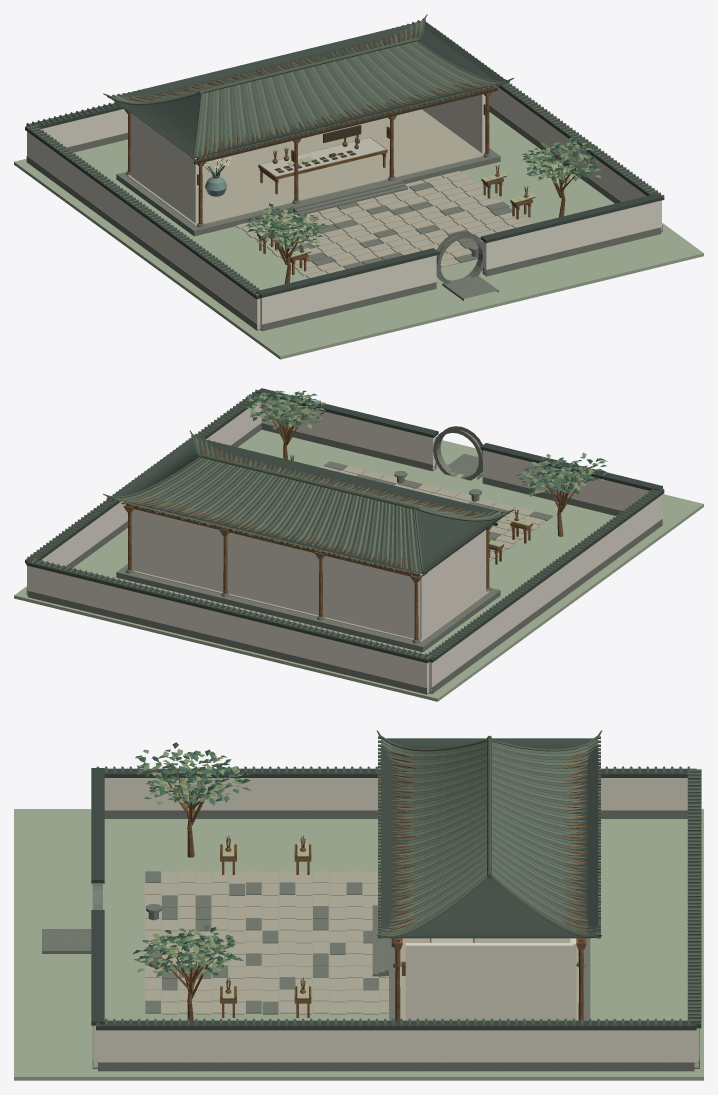
File: public_models_places_qiushuangzhai.glb
The picture shows the model from 3 angles, top to bottom: view 1: azimuth 30°, elevation 25°; view 2: azimuth 150°, elevation 25°; view 3: azimuth 270°, elevation 25°; orthographic projection. The views are drawn at different scales.
Parts seen in each view (by area): view 1: qiushuangzhai_earth, qiushuangzhai_plaster, qiushuangzhai_paving, qiushuangzhai_roof, qiushuangzhai_stone, qiushuangzhai_tile, qiushuangzhai_tiledark, qiushuangzhai_wood, qiushuangzhai_tilelight, qiushuangzhai_darkwood, qiushuangzhai_lightleaf, qiushuangzhai_leaf (+2 smaller); view 2: qiushuangzhai_plaster, qiushuangzhai_roof, qiushuangzhai_earth, qiushuangzhai_stone, qiushuangzhai_tile, qiushuangzhai_tiledark, qiushuangzhai_tilelight, qiushuangzhai_wood, qiushuangzhai_paving, qiushuangzhai_leaf, qiushuangzhai_lightleaf, qiushuangzhai_leafdark; view 3: qiushuangzhai_earth, qiushuangzhai_plaster, qiushuangzhai_roof, qiushuangzhai_paving, qiushuangzhai_stone, qiushuangzhai_tile, qiushuangzhai_tiledark, qiushuangzhai_tilelight, qiushuangzhai_wood, qiushuangzhai_leaf, qiushuangzhai_lightleaf, qiushuangzhai_leafdark (+1 smaller).
Part boxes in pixels (x1,y1,x2,y2): qiushuangzhai_earth: (14,112,703,359); qiushuangzhai_plaster: (27,85,661,329); qiushuangzhai_paving: (127,109,532,278); qiushuangzhai_roof: (25,21,664,299); qiushuangzhai_stone: (26,104,662,331); qiushuangzhai_tile: (26,20,664,296); qiushuangzhai_tiledark: (103,14,513,159); qiushuangzhai_wood: (123,29,582,284); qiushuangzhai_tilelight: (115,24,496,156); qiushuangzhai_darkwood: (194,87,535,257); qiushuangzhai_lightleaf: (245,142,601,248); qiushuangzhai_leaf: (249,137,601,249); qiushuangzhai_plaster: (27,398,661,693); qiushuangzhai_roof: (25,388,664,663); qiushuangzhai_earth: (14,430,703,701); qiushuangzhai_stone: (26,423,662,694); qiushuangzhai_tile: (27,389,664,660); qiushuangzhai_tiledark: (103,430,513,575); qiushuangzhai_tilelight: (120,440,501,572); qiushuangzhai_wood: (121,402,586,640); qiushuangzhai_paving: (133,465,544,642); qiushuangzhai_leaf: (245,391,606,496); qiushuangzhai_lightleaf: (248,390,607,494); qiushuangzhai_leafdark: (238,390,605,494); qiushuangzhai_earth: (14,809,703,1080); qiushuangzhai_plaster: (93,778,698,1067); qiushuangzhai_roof: (91,738,701,1030); qiushuangzhai_paving: (145,871,578,1020); qiushuangzhai_stone: (42,810,699,1071); qiushuangzhai_tile: (96,738,701,1026); qiushuangzhai_tiledark: (376,730,602,938); qiushuangzhai_tilelight: (381,742,598,931); qiushuangzhai_wood: (153,751,589,1020); qiushuangzhai_leaf: (133,749,251,977); qiushuangzhai_lightleaf: (135,749,244,973); qiushuangzhai_leafdark: (133,742,250,975).
Bounding box in the file's own units: 34 × 8.46 × 37.
Materials: 19 (2 with a texture image).
